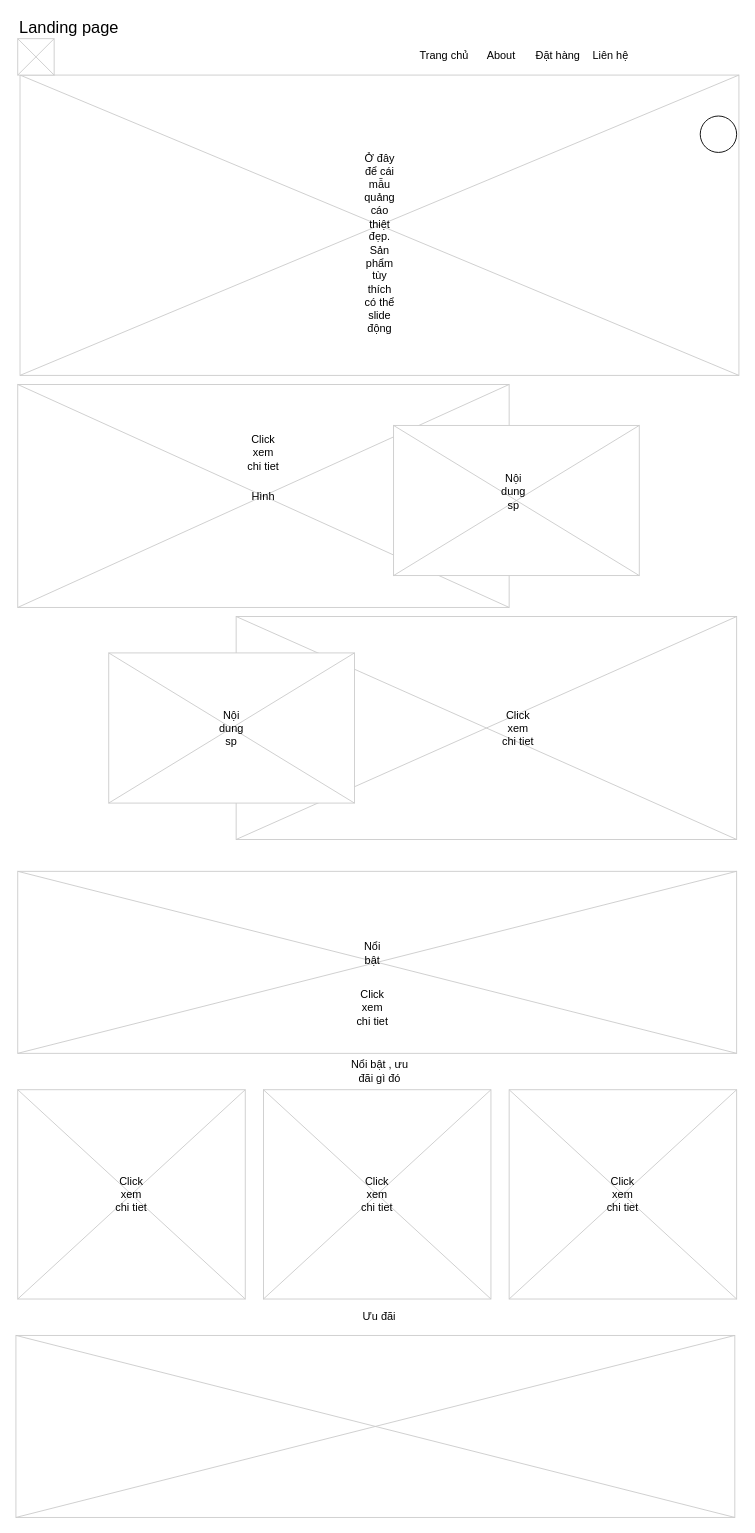
The diagram is 755 pixels wide and 1533 high, and some of its shapes have lost their labels. The shapes that lost their labels are listed below. From the top down, each one's centre as x and y in pixels, then its label:
At [35,56]: "Blog Logo".
At [718,133]: "Mess".
At [375,1426]: "Footer".
